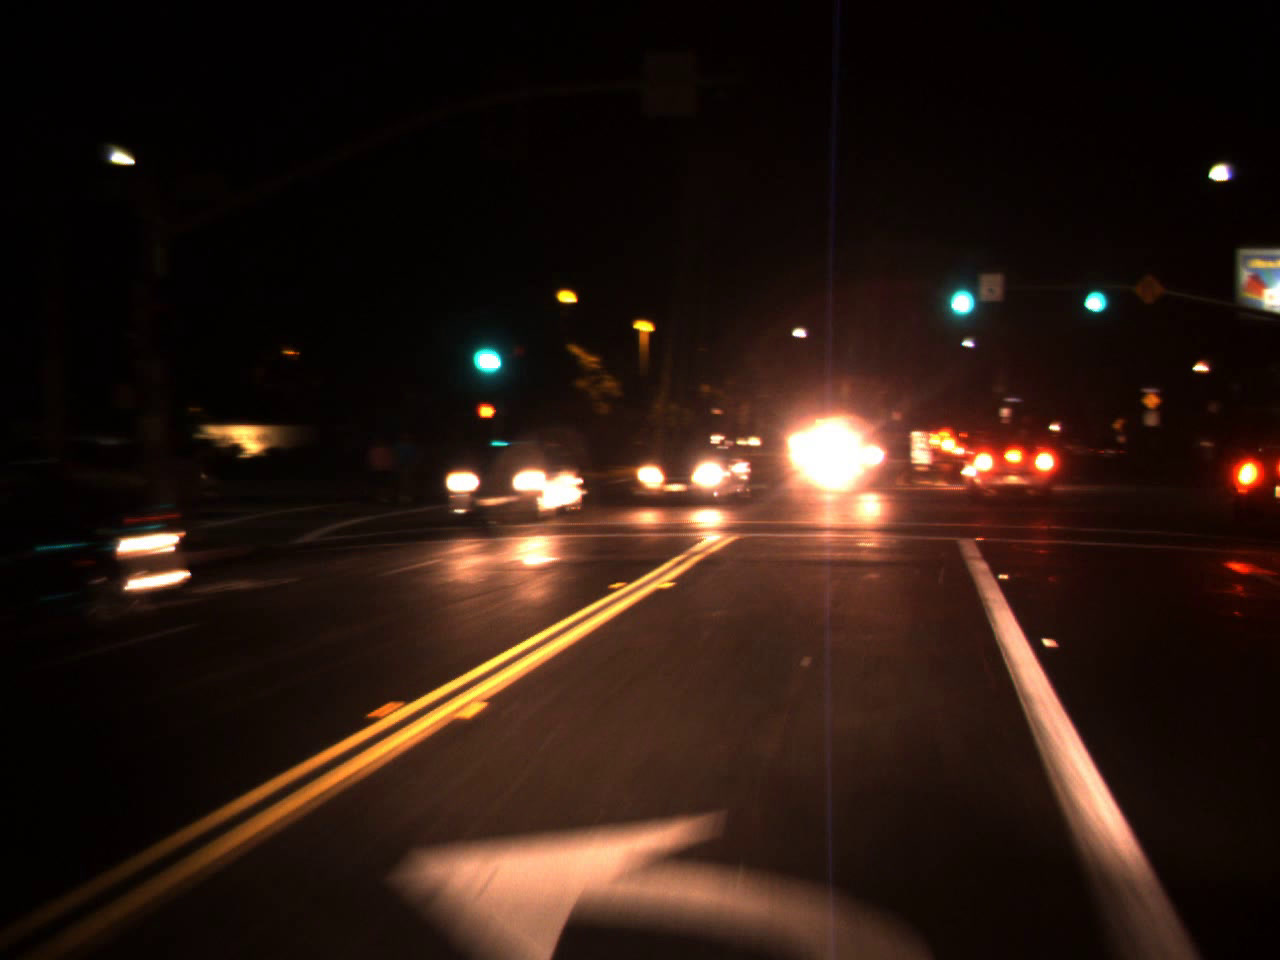go: (460, 314, 508, 383), (939, 256, 980, 325), (1079, 266, 1109, 320)
